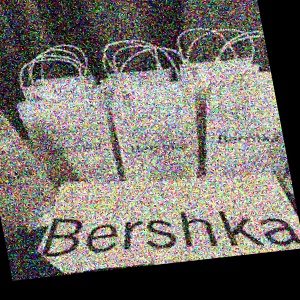bershka: (40, 46, 295, 226), (102, 49, 269, 218), (228, 32, 300, 252), (61, 60, 142, 214), (4, 91, 75, 258)
